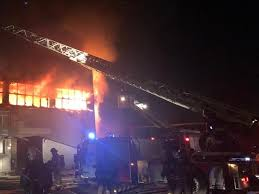fire: (2, 61, 114, 137)
